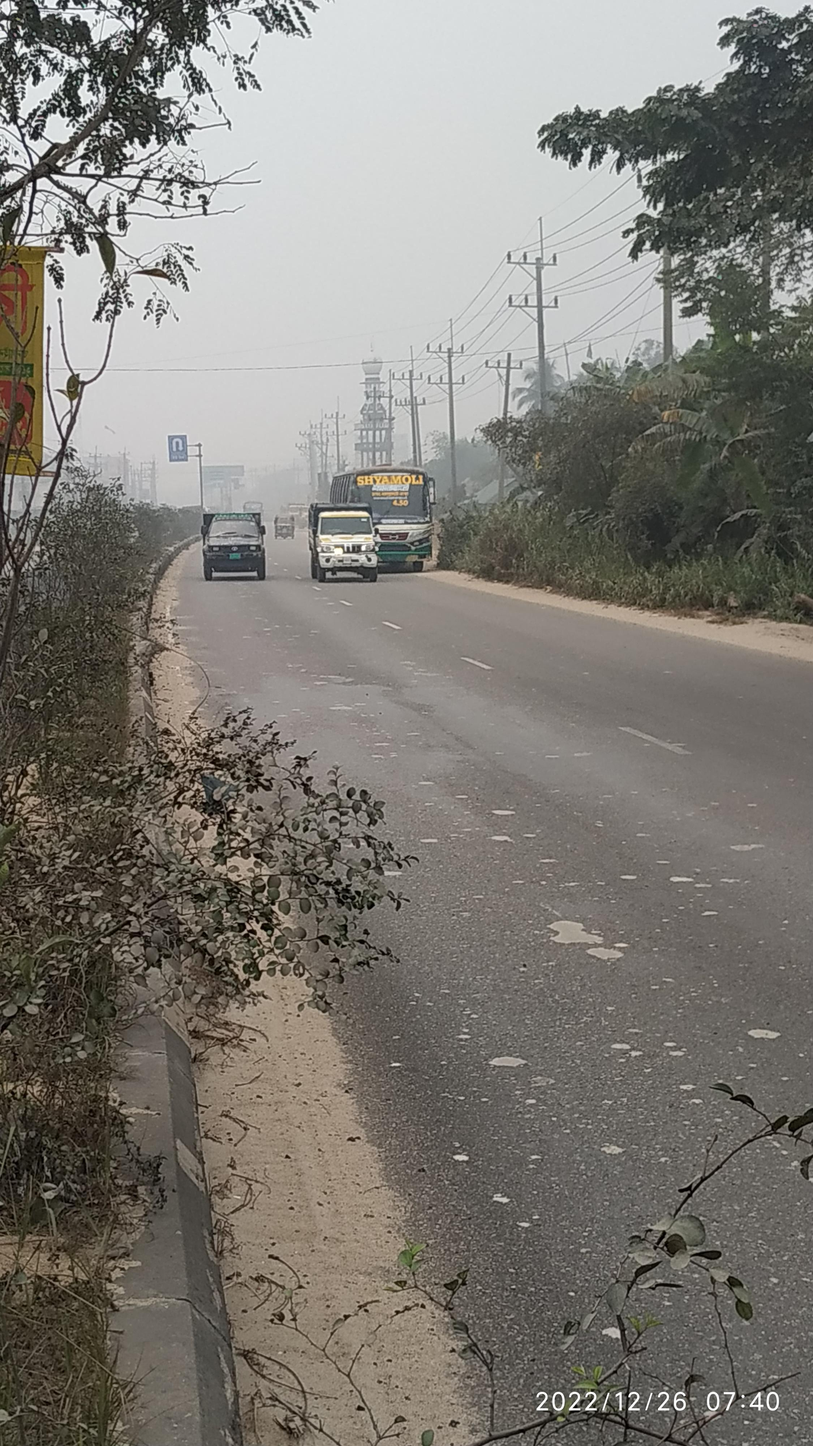Bus: (330, 450, 447, 581)
Truck: (298, 491, 387, 590), (191, 499, 274, 596)
